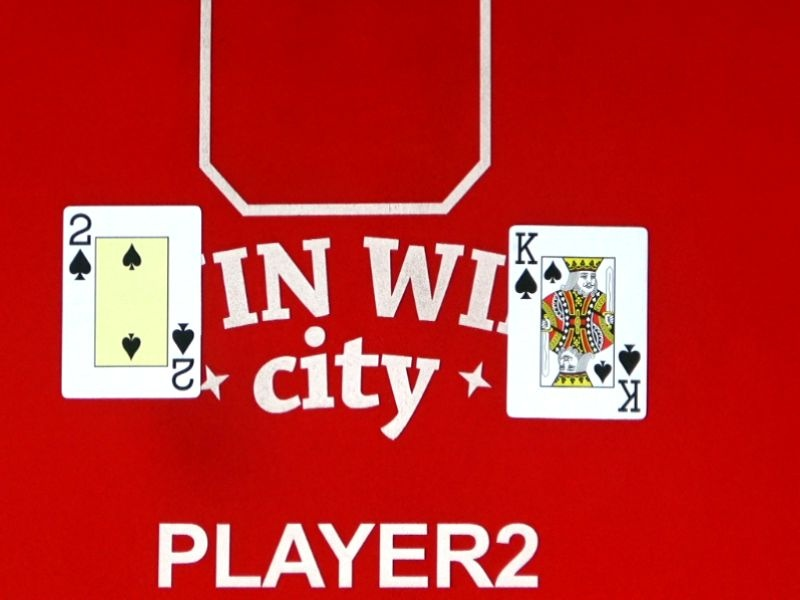2: (142, 322, 222, 395), (41, 213, 117, 283)
AD: (484, 227, 568, 304), (589, 343, 669, 416)
